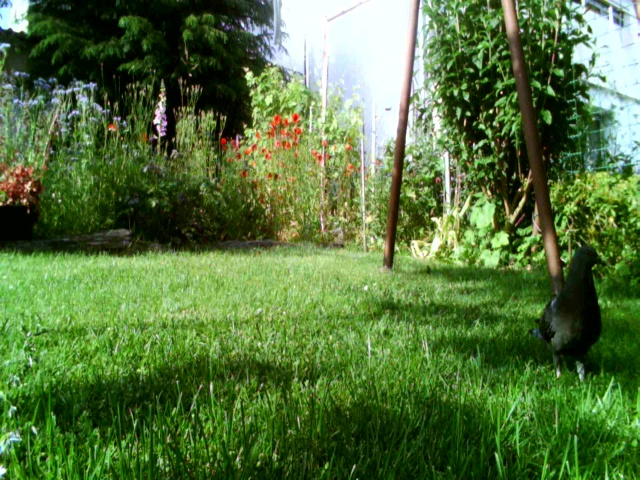Pigeon: (528, 245, 614, 373)
